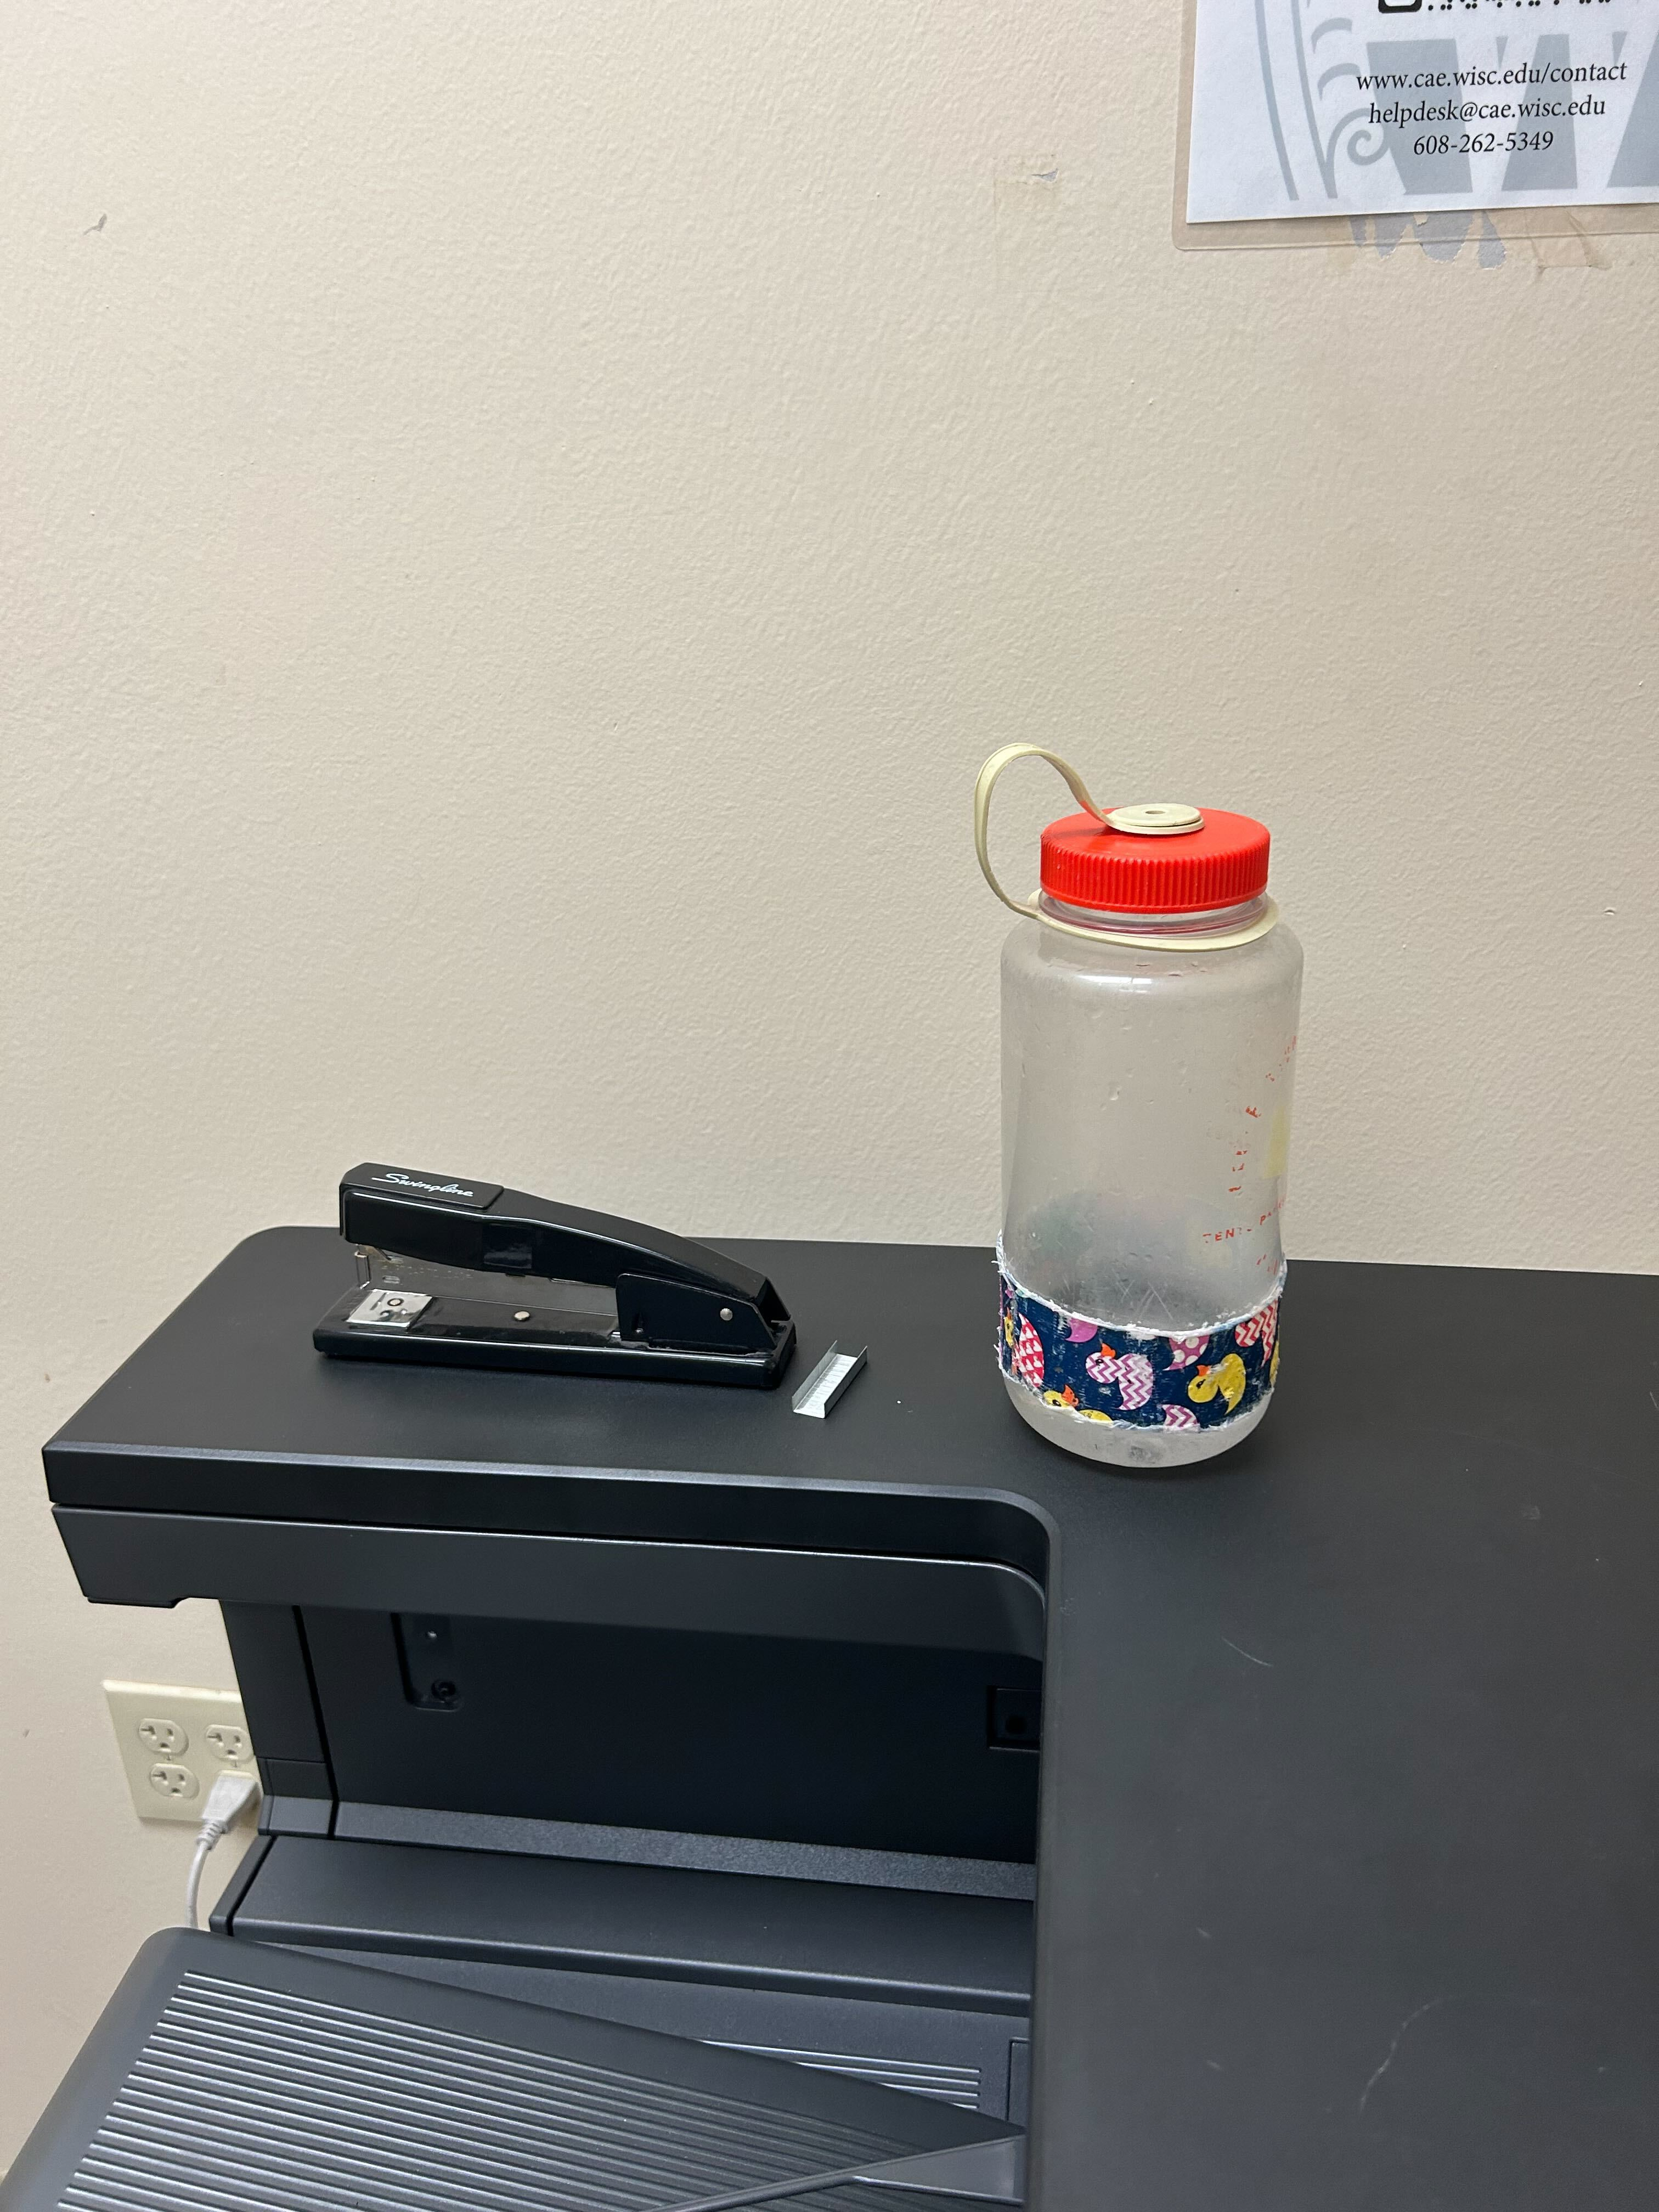bottle: (969, 726, 1305, 1477)
